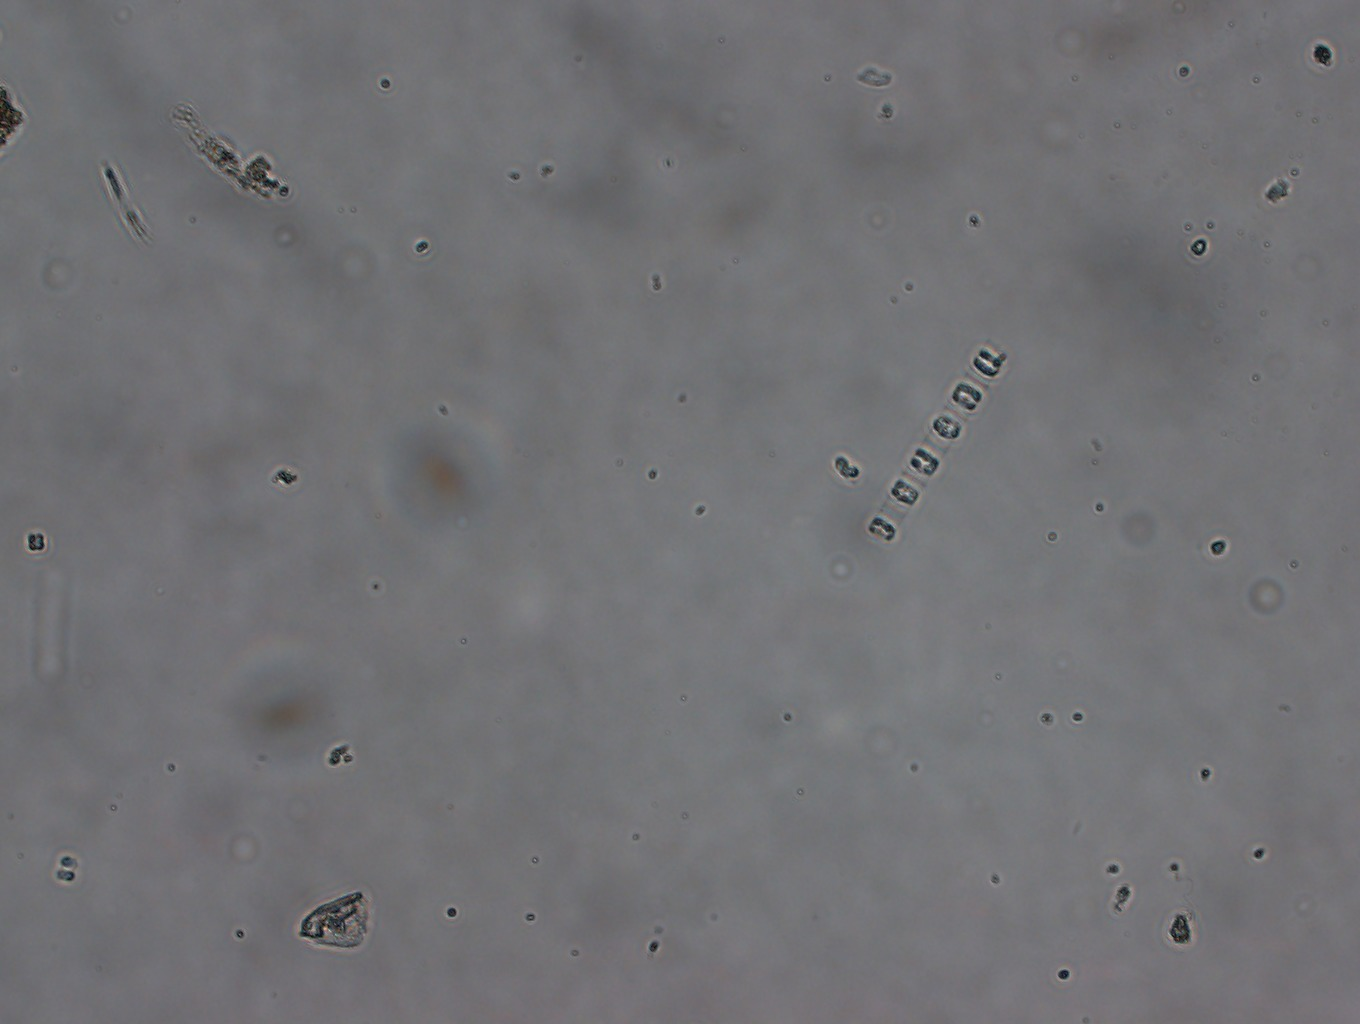skeletonema: (867, 344, 1007, 547)
